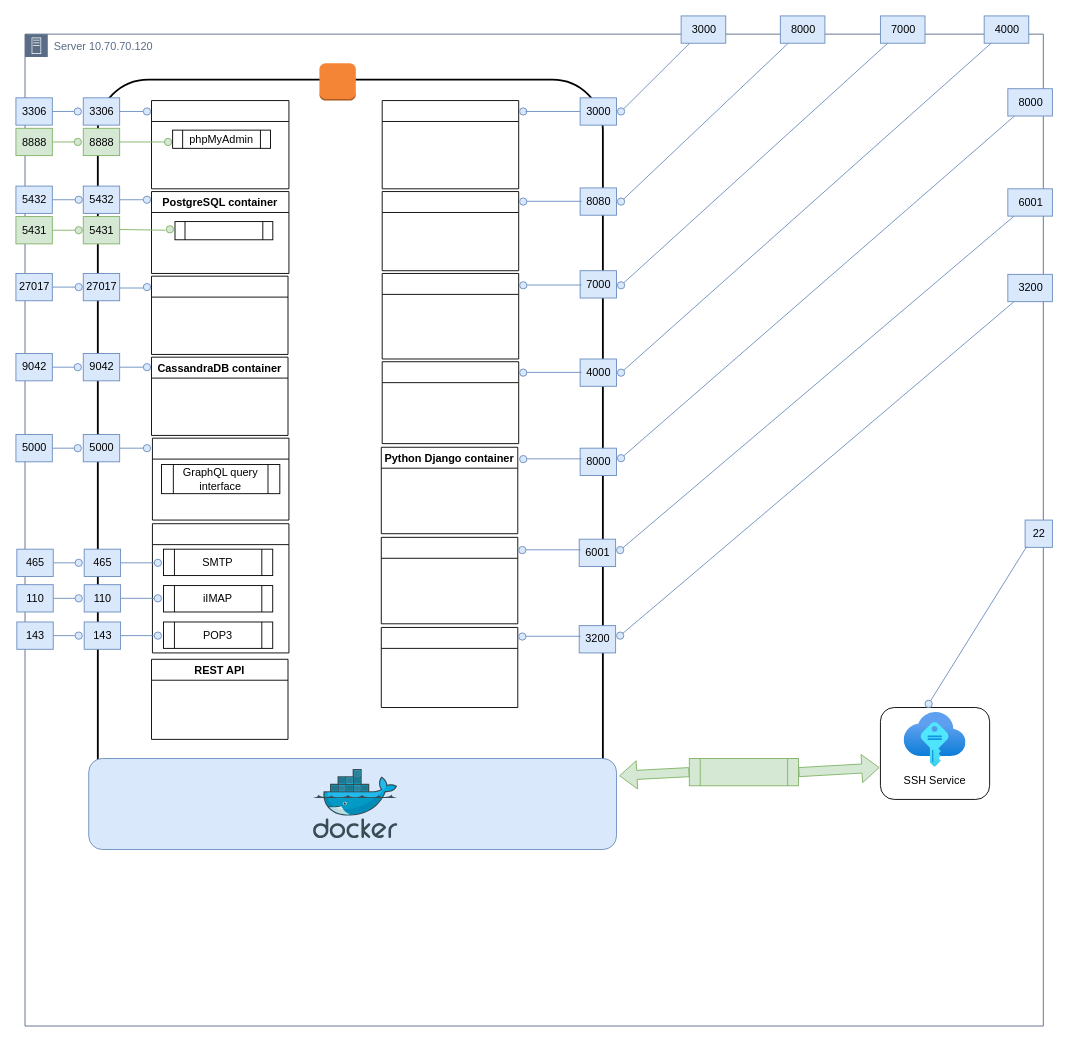
This 1068x1042 diagram has some shape labels left out. Here are the shapes that lost their labels. From the top down, the box of each, then its label:
(318, 62, 356, 101): EC2
(151, 100, 289, 189): MySQL container
(381, 100, 519, 189): NuxtJS container
(174, 221, 273, 240): pg4Admin
(381, 191, 519, 271): JavaSpring container
(151, 275, 288, 354): MongoDB container
(381, 273, 519, 359): .NET C# container
(381, 361, 519, 444): ExpressJS container
(152, 437, 289, 520): GraphQL API container
(152, 523, 289, 653): MailServer container
(380, 536, 518, 624): PHP/Laravel container
(380, 627, 518, 708): Ruby on rails container
(688, 758, 799, 786): DOCKER COMPOSE
